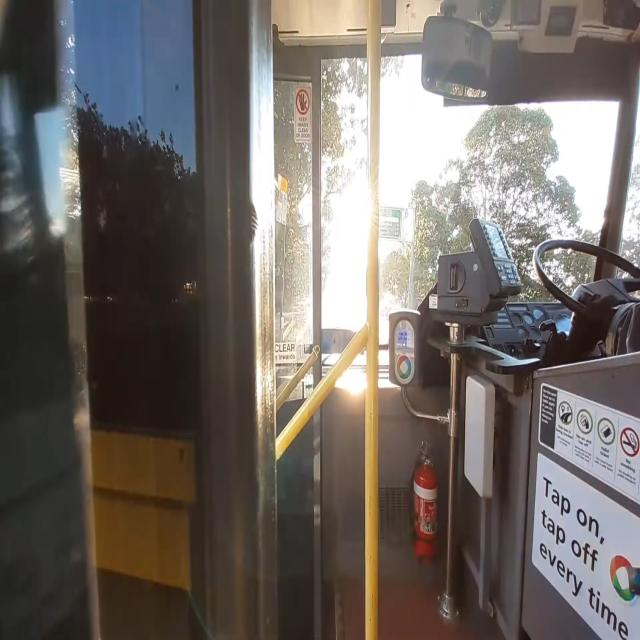bus-door: (76, 1, 322, 640)
